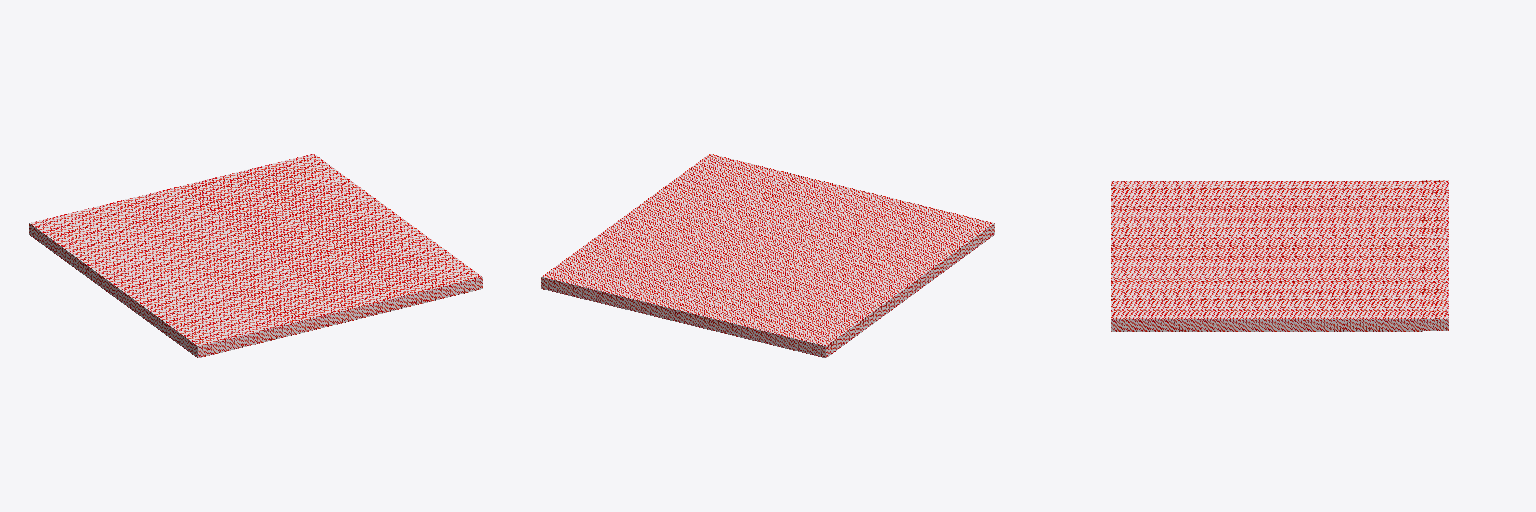
3 views of the same model, side by side, from view 1: azimuth 30°, elevation 25°; view 2: azimuth 150°, elevation 25°; view 3: azimuth 270°, elevation 25° (orthographic).
Bounding box in the file's own units: 48.84 × 2.02 × 50.07.
Materials: 1 (1 with a texture image).